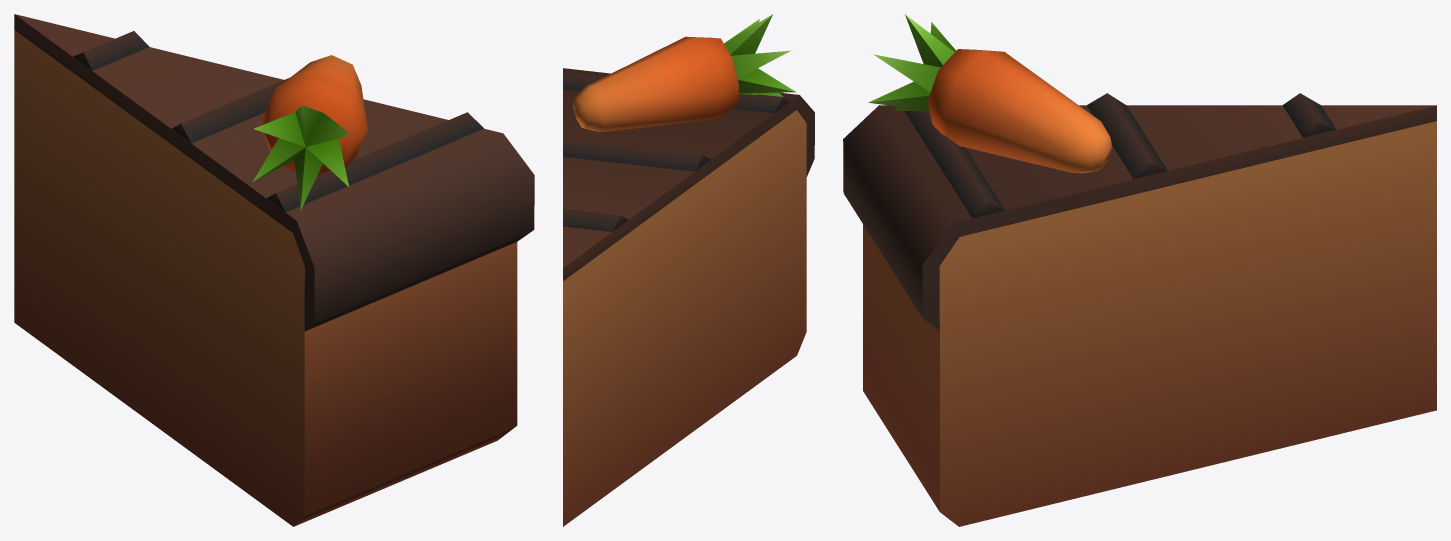
Rendered from m_CarrotCake02_Slice01.fbx.
3 renders of one model, left to right at view 1: azimuth 30°, elevation 25°; view 2: azimuth 150°, elevation 25°; view 3: azimuth 270°, elevation 25°, orthographic. The views are drawn at different scales.
Parts seen in each view (by area): view 1: m_CarrotCake02_Slice01; view 2: m_CarrotCake02_Slice01; view 3: m_CarrotCake02_Slice01.
Part boxes in pixels (<box>): m_CarrotCake02_Slice01: <box>14,14,534,526</box>; m_CarrotCake02_Slice01: <box>563,14,814,526</box>; m_CarrotCake02_Slice01: <box>843,14,1436,526</box>.
Bounding box in the file's own units: 7.81 × 10.91 × 14.48.
